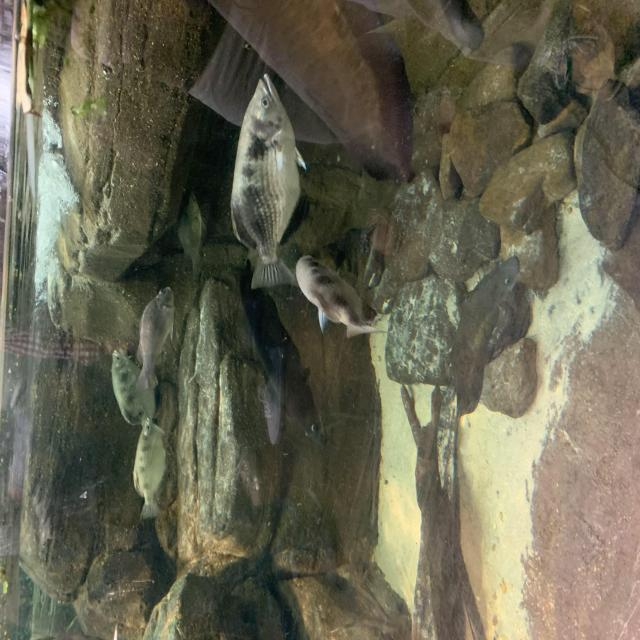fish: (232, 73, 306, 293), (444, 256, 526, 418), (295, 251, 388, 344), (133, 275, 177, 388), (110, 343, 156, 432), (132, 419, 172, 521)
